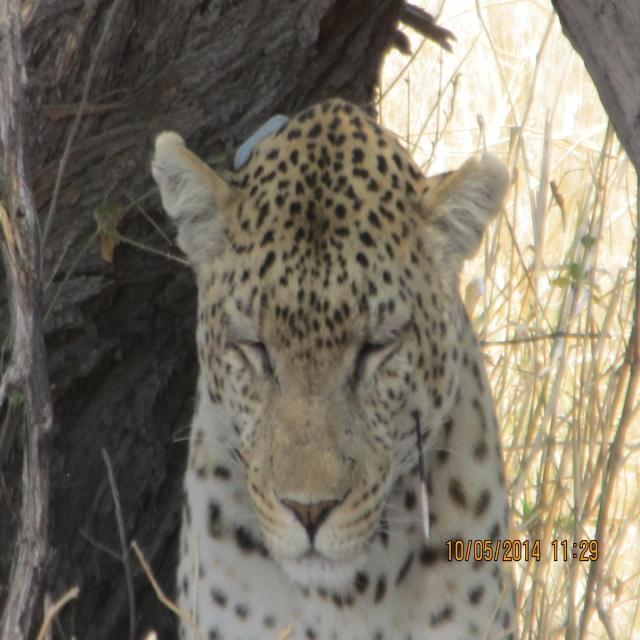Leopard: (109, 81, 602, 640)
